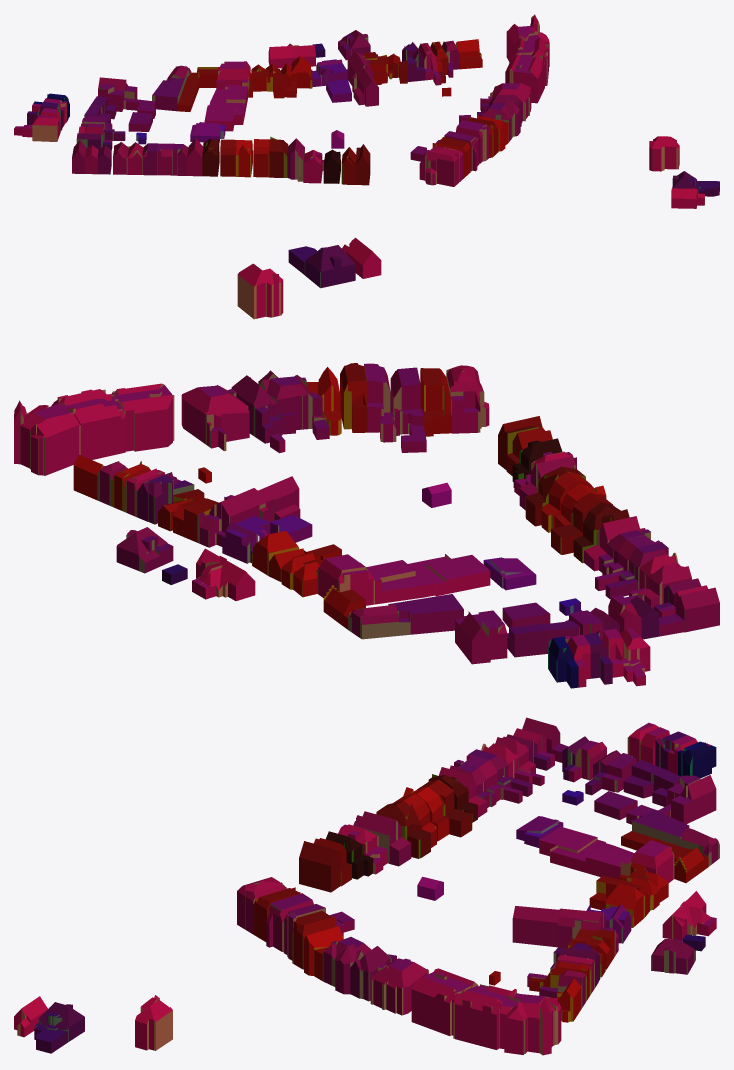
Rendered from buildings_6_11.glb.
3 renders of one model, top to bottom at view 1: azimuth 30°, elevation 25°; view 2: azimuth 150°, elevation 25°; view 3: azimuth 270°, elevation 25°, orthographic. The views are drawn at different scales.
Visible parts, largest first — view 1: buildings_6_11; view 2: buildings_6_11; view 3: buildings_6_11.
Boxes of the visible parts, box(x1,y1,x2,y2) form: buildings_6_11: box(14, 14, 719, 208); buildings_6_11: box(14, 237, 719, 688); buildings_6_11: box(14, 717, 719, 1055).
Size of the model in its own units: 215 by 18.04 by 206.
